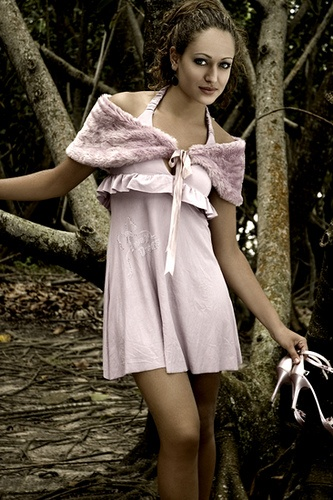head: (169, 8, 239, 106)
person: (1, 1, 307, 500)
